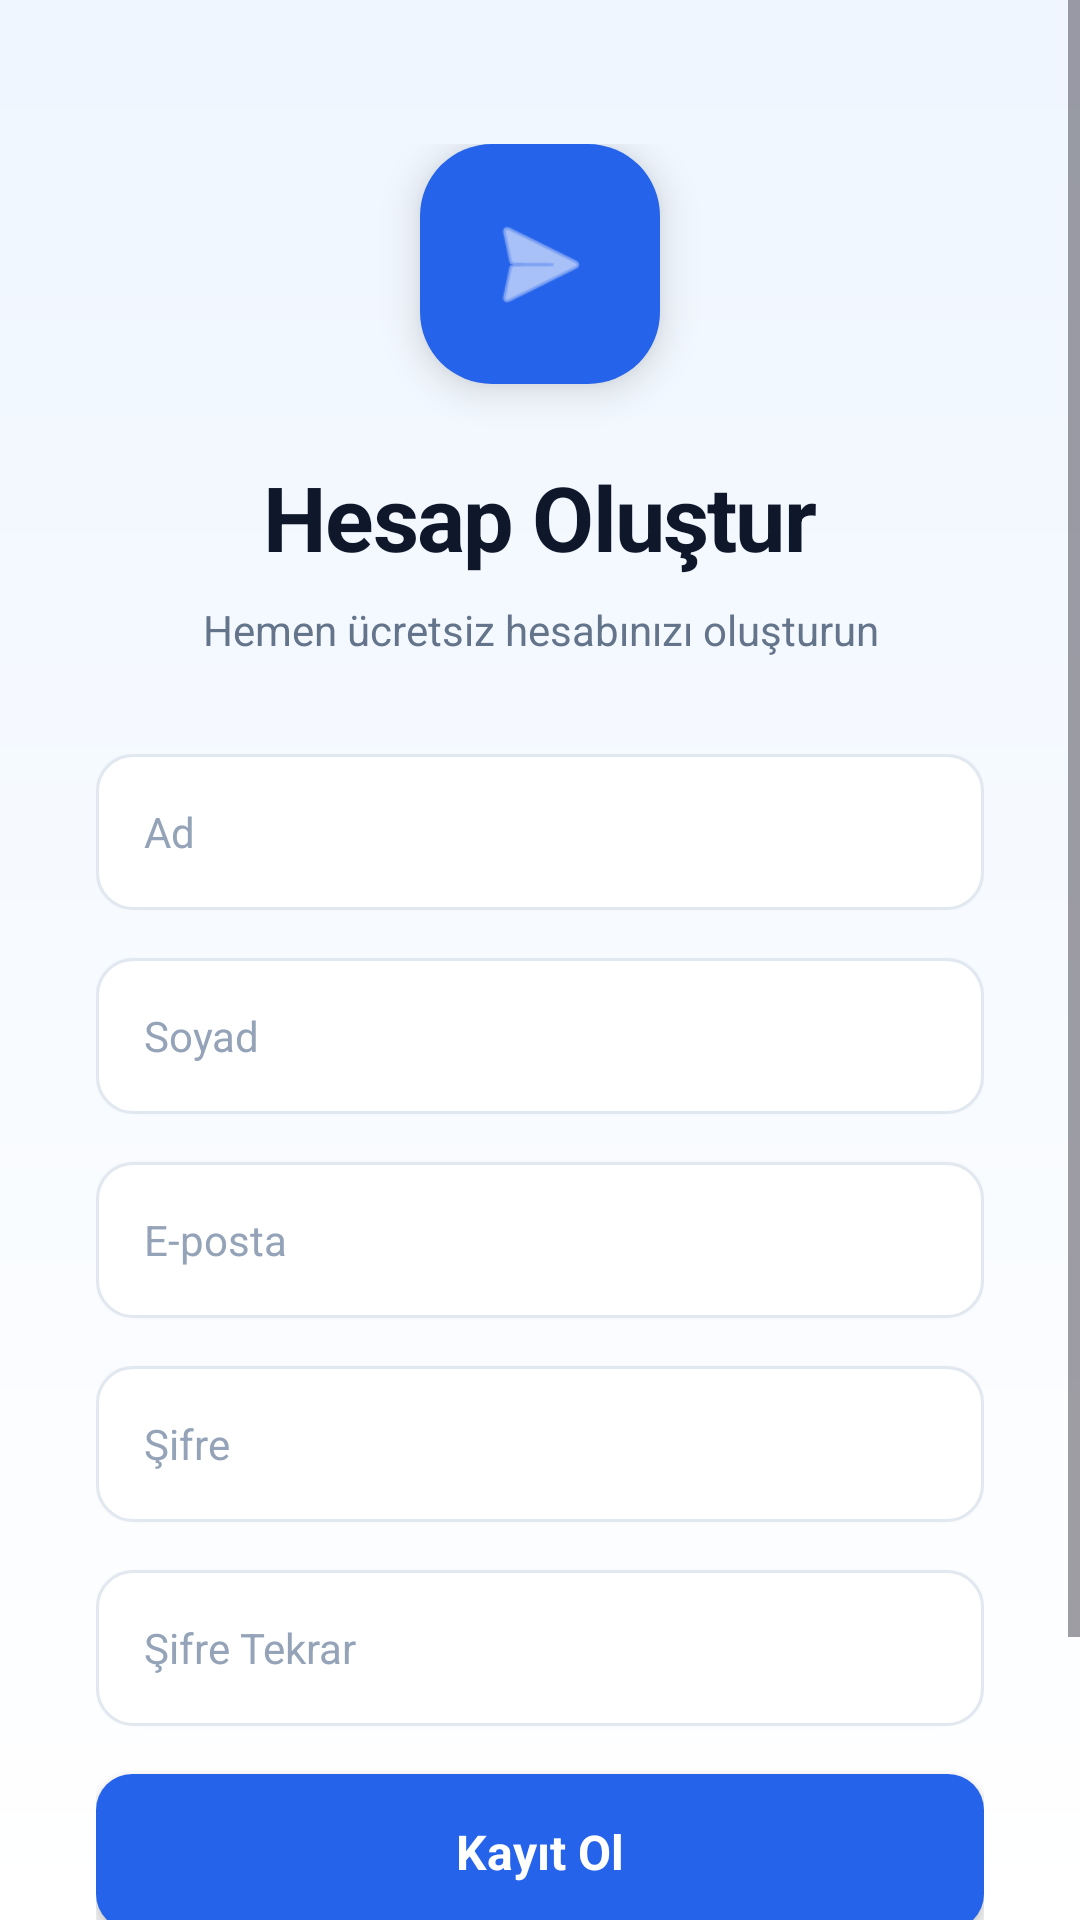

Icon bounding boxes for this 1080 × 1920 phone screenshot, format (x1, y1, x2, y2):
send: (503, 227, 579, 303)
